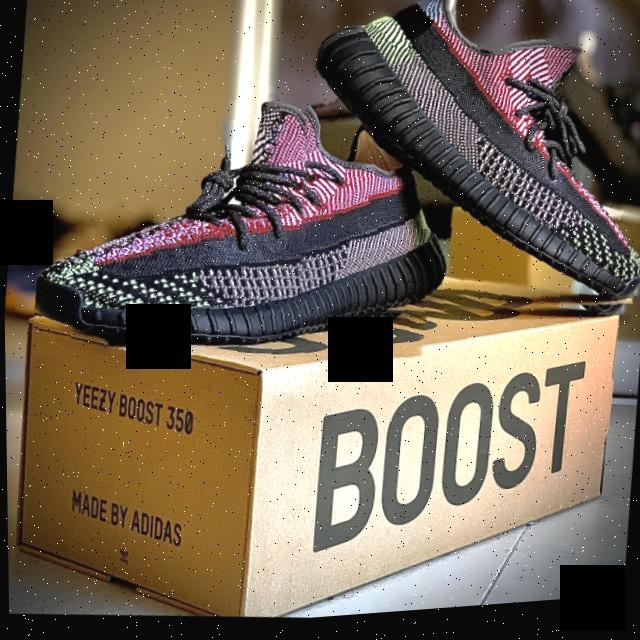shoe: (27, 59, 457, 388), (281, 0, 640, 351)
